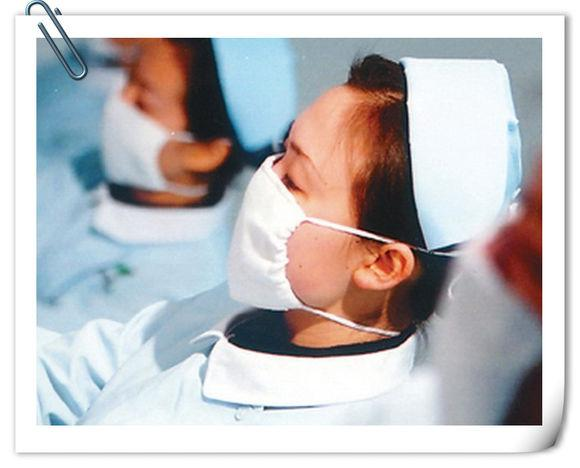OK: (223, 131, 393, 308), (98, 60, 201, 195)
